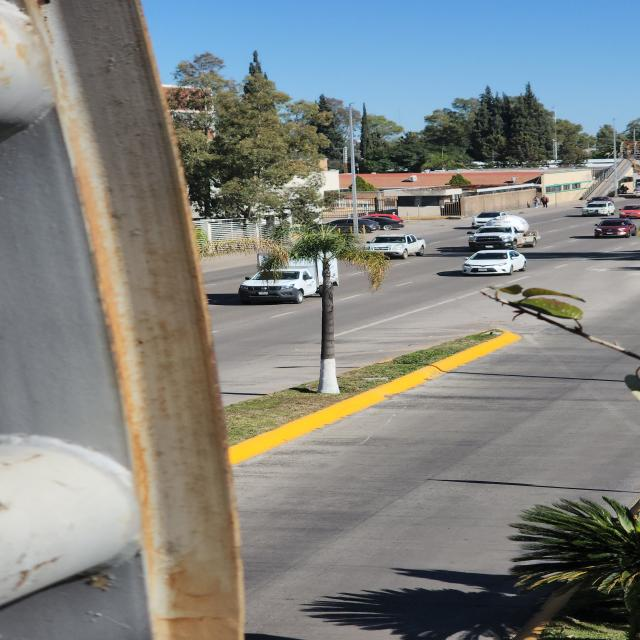Auto: (241, 270, 318, 307), (461, 248, 526, 275), (367, 234, 426, 260), (594, 217, 636, 236), (583, 198, 617, 216), (366, 215, 404, 230)
Peaton: (542, 196, 549, 208)
